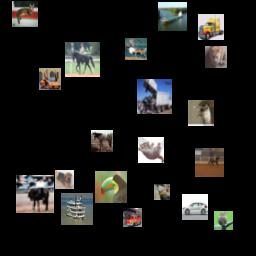automobile: (182, 194, 208, 220), (39, 68, 61, 90)
bird: (95, 171, 127, 203), (188, 100, 214, 126), (214, 211, 233, 230)
cat: (12, 1, 38, 27), (138, 137, 164, 163), (205, 46, 227, 68)
deer: (125, 38, 147, 60), (154, 184, 170, 200)
dog: (55, 170, 74, 189)
ship: (61, 193, 93, 225), (158, 2, 187, 31)
truck: (137, 79, 172, 114), (198, 14, 224, 40), (123, 208, 142, 227)
